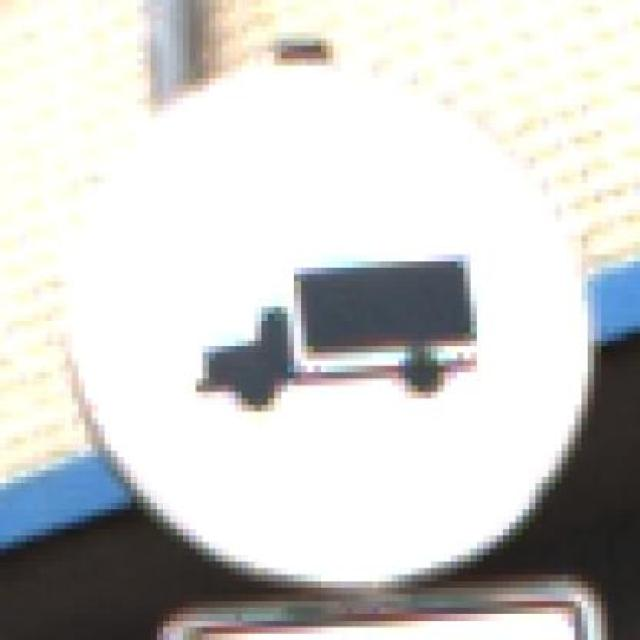Truck traffic is prohibited: (46, 45, 620, 607)
